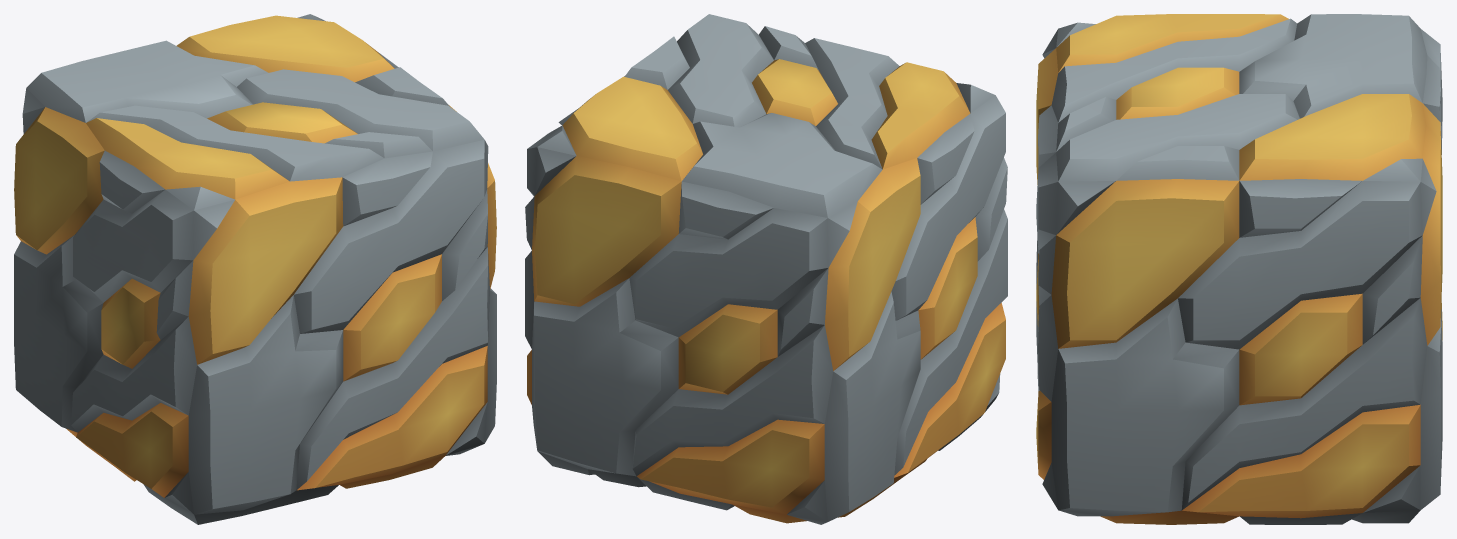
The model's file is stone-with-gold.glb.
3 renders of one model, left to right at view 1: azimuth 30°, elevation 25°; view 2: azimuth 150°, elevation 25°; view 3: azimuth 270°, elevation 25°, orthographic. The views are drawn at different scales.
Parts seen in each view (by area): view 1: stone_with_gold; view 2: stone_with_gold; view 3: stone_with_gold.
Part boxes in pixels (box(x1,y1,x2,y2)): stone_with_gold: box(14, 14, 496, 524); stone_with_gold: box(525, 14, 1007, 524); stone_with_gold: box(1036, 14, 1442, 524).
Bounding box in the file's own units: 2.02 × 2.02 × 2.02.
1 material, 1 textured.
